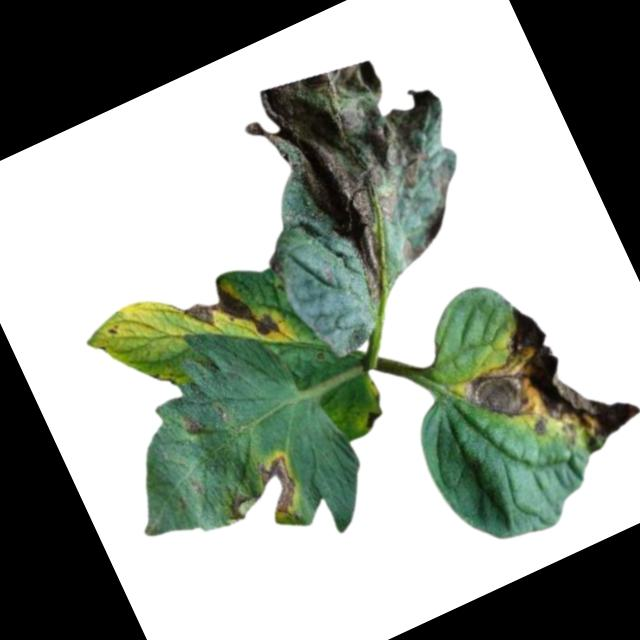Early_blight: (232, 23, 507, 322), (437, 276, 640, 495), (175, 263, 282, 365), (212, 447, 309, 538), (179, 414, 209, 445), (266, 253, 288, 283), (358, 408, 386, 430)
